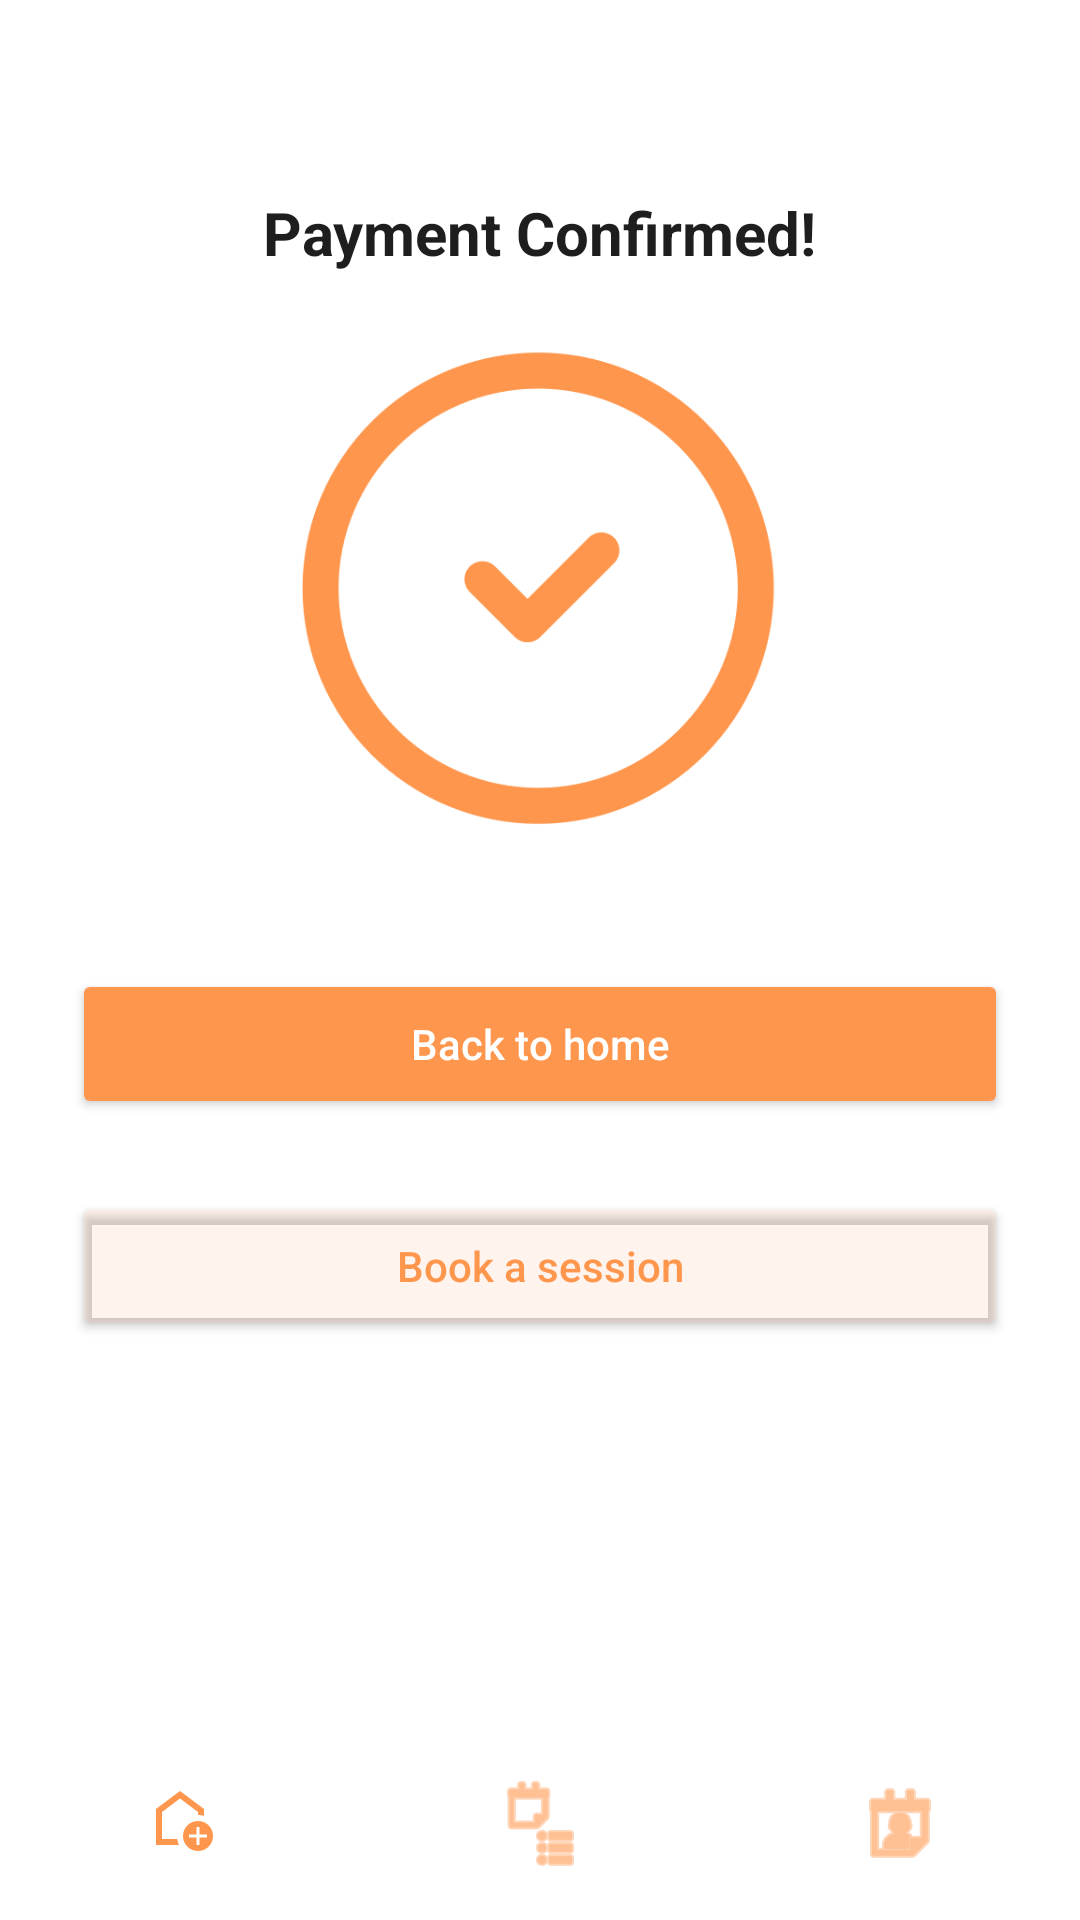

Locate icon controls on the screen. Image size 1080 × 1920, boxes as (x1=x1, y1=y1, x2=x2, y2=y2).
agenda: (x1=507, y1=1781, x2=574, y2=1866)
calendar: (x1=869, y1=1788, x2=931, y2=1858)
home: (x1=156, y1=1791, x2=213, y2=1851)
